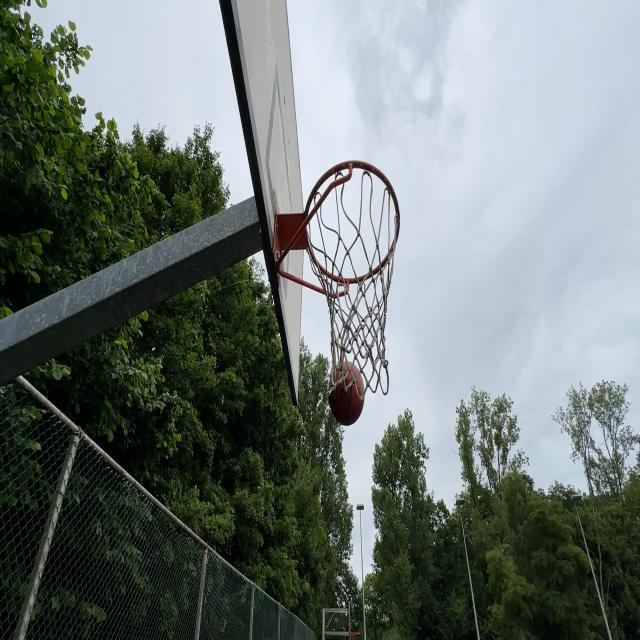Basketball: (330, 364, 366, 425)
